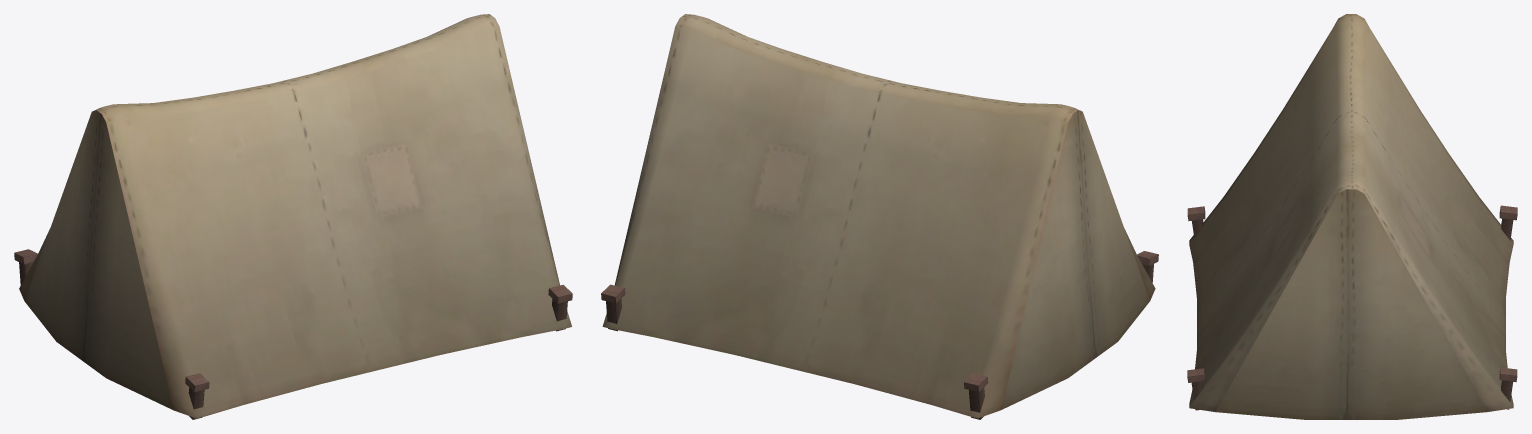
3 renders of one model, left to right at view 1: azimuth 30°, elevation 25°; view 2: azimuth 150°, elevation 25°; view 3: azimuth 270°, elevation 25°, orthographic. The views are drawn at different scales.
Parts seen in each view (by area): view 1: body0_model0_lod0_mesh0; view 2: body0_model0_lod0_mesh0; view 3: body0_model0_lod0_mesh0.
Boxes of the visible parts, x1,y1,x2,y2 form: body0_model0_lod0_mesh0: (14, 14, 572, 419); body0_model0_lod0_mesh0: (601, 14, 1158, 419); body0_model0_lod0_mesh0: (1187, 14, 1517, 419).
Size of the model in its own units: 243 by 135 by 178.
Materials: 1 (1 with a texture image).
